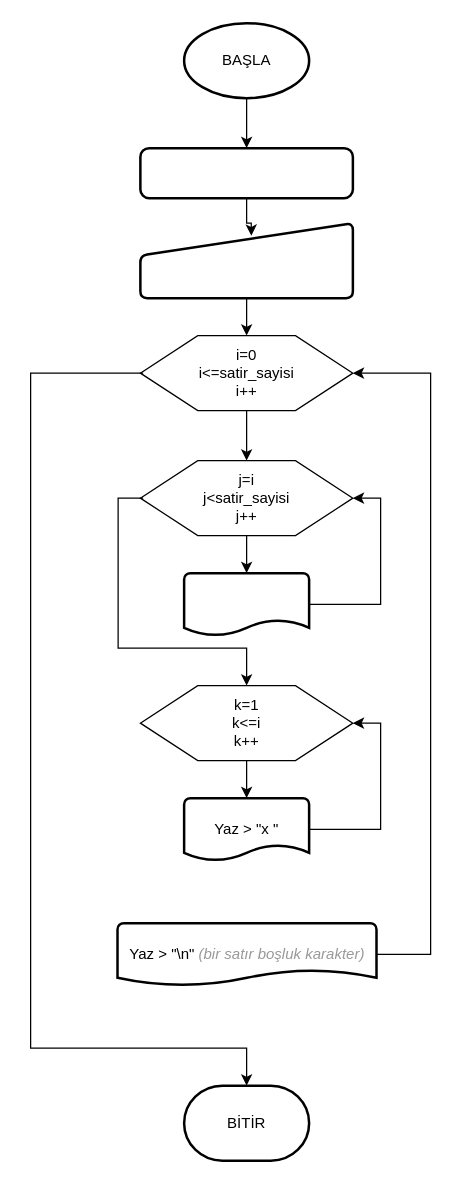
The diagram is 463 pixels wide and 1183 high, and some of its shapes have lost their labels. The shapes that lost their labels are listed below. From the top down, each one's centre as x and y in pixels, then its label:
the point at 246,172: i=0, j=0, k=0, satir_sayisi=0
the point at 246,260: Oku satir_sayisi
the point at 246,603: Yaz > " "
